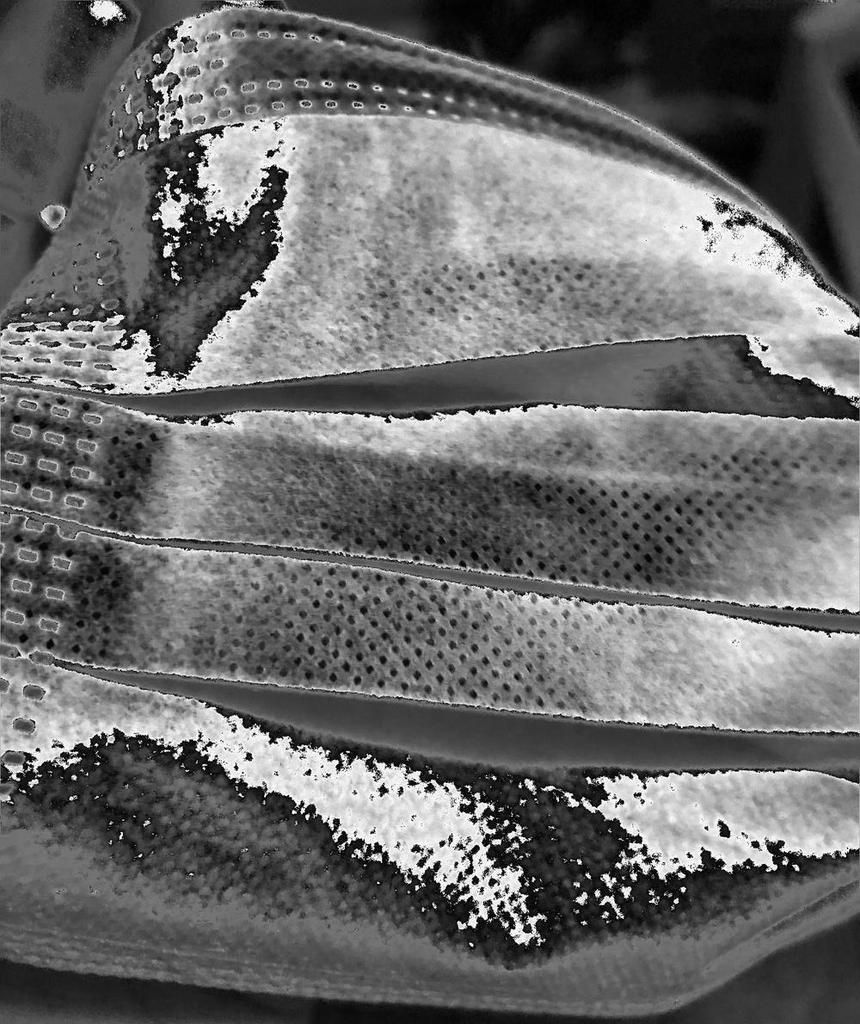Low GSM: (114, 127, 854, 966)
